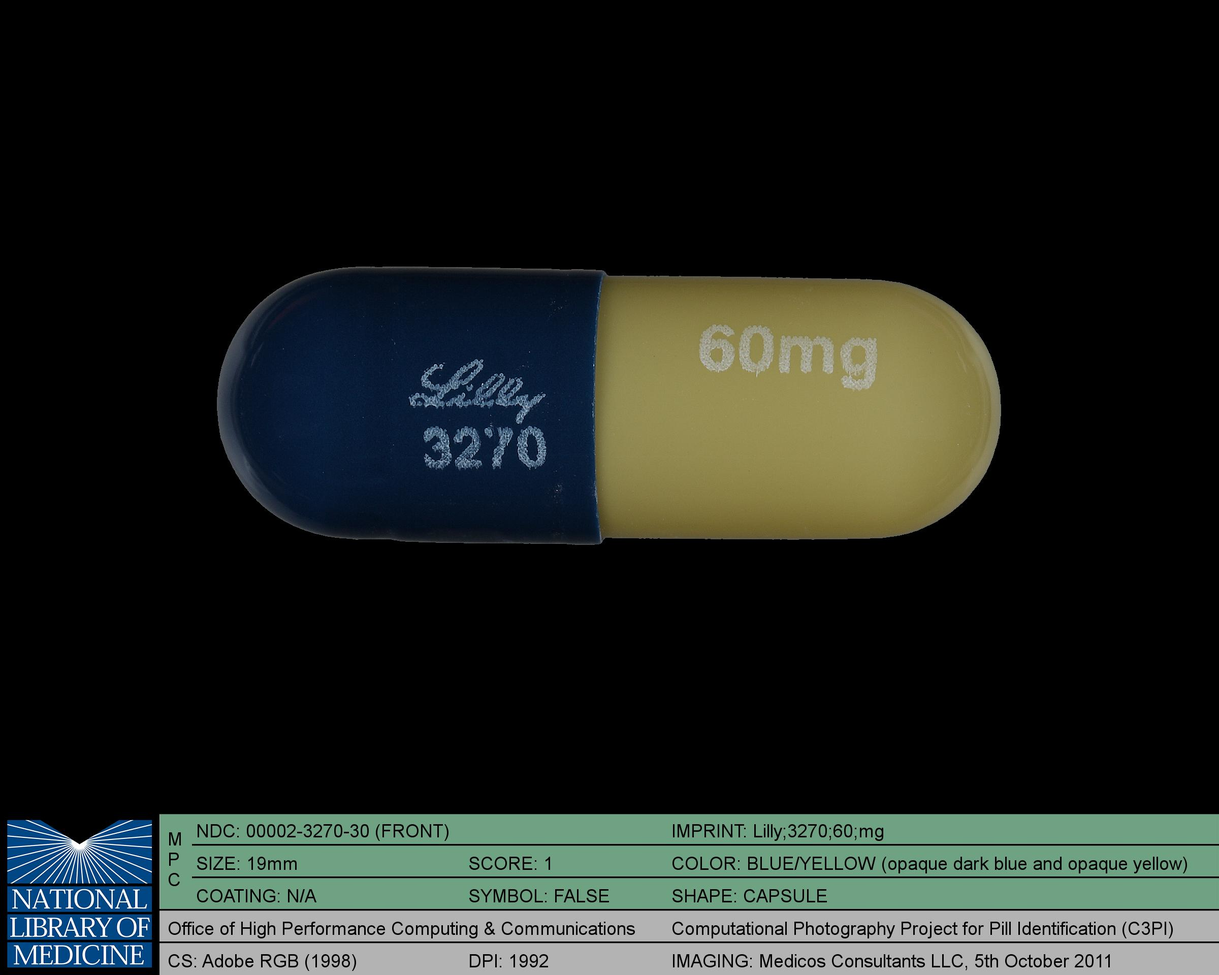Pill: (208, 254, 1012, 557)
